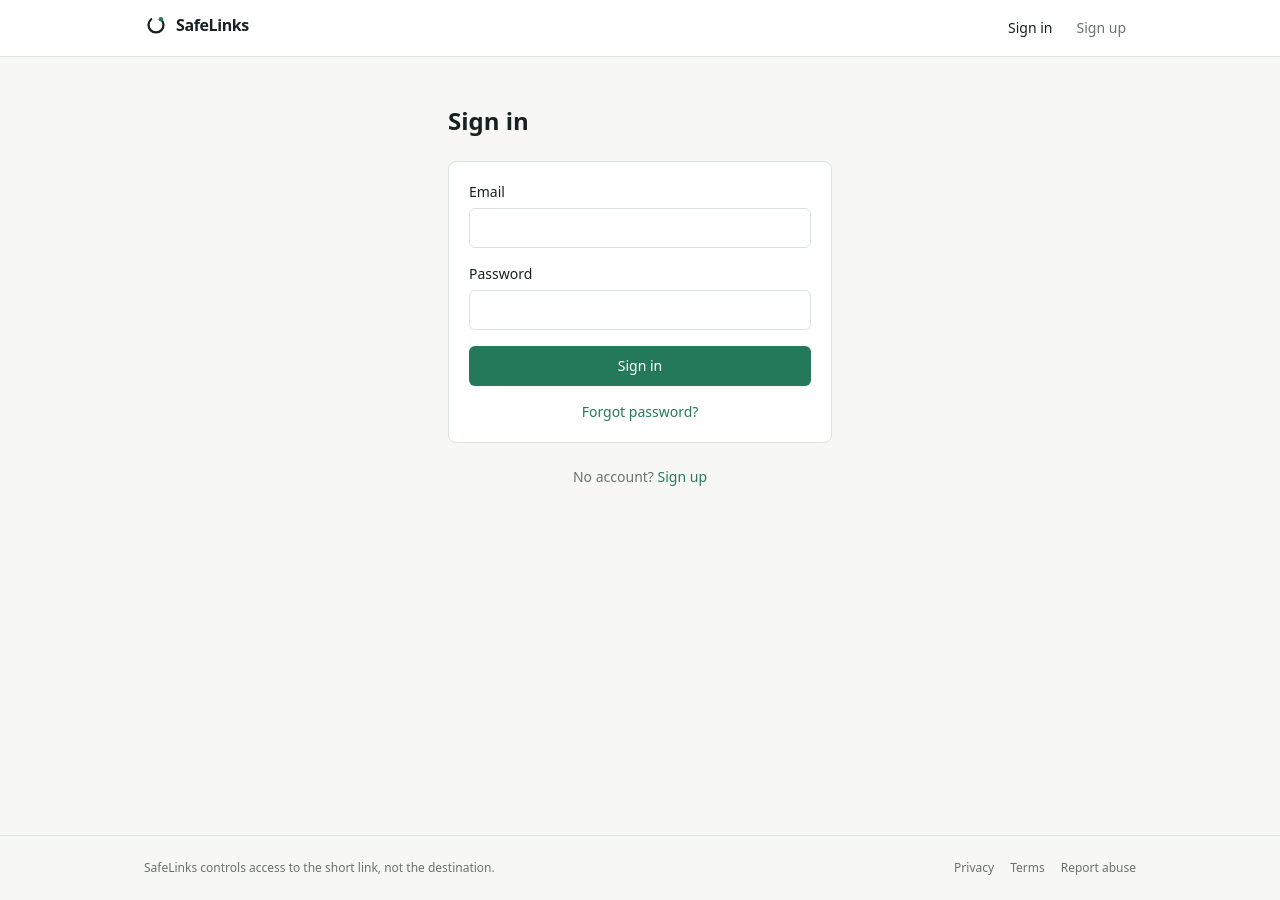
routing and pages › shows sign-in errors
Step 1. Type "a@example.com" into the field labelled "Email" → (640, 228), box [469,208,811,248]
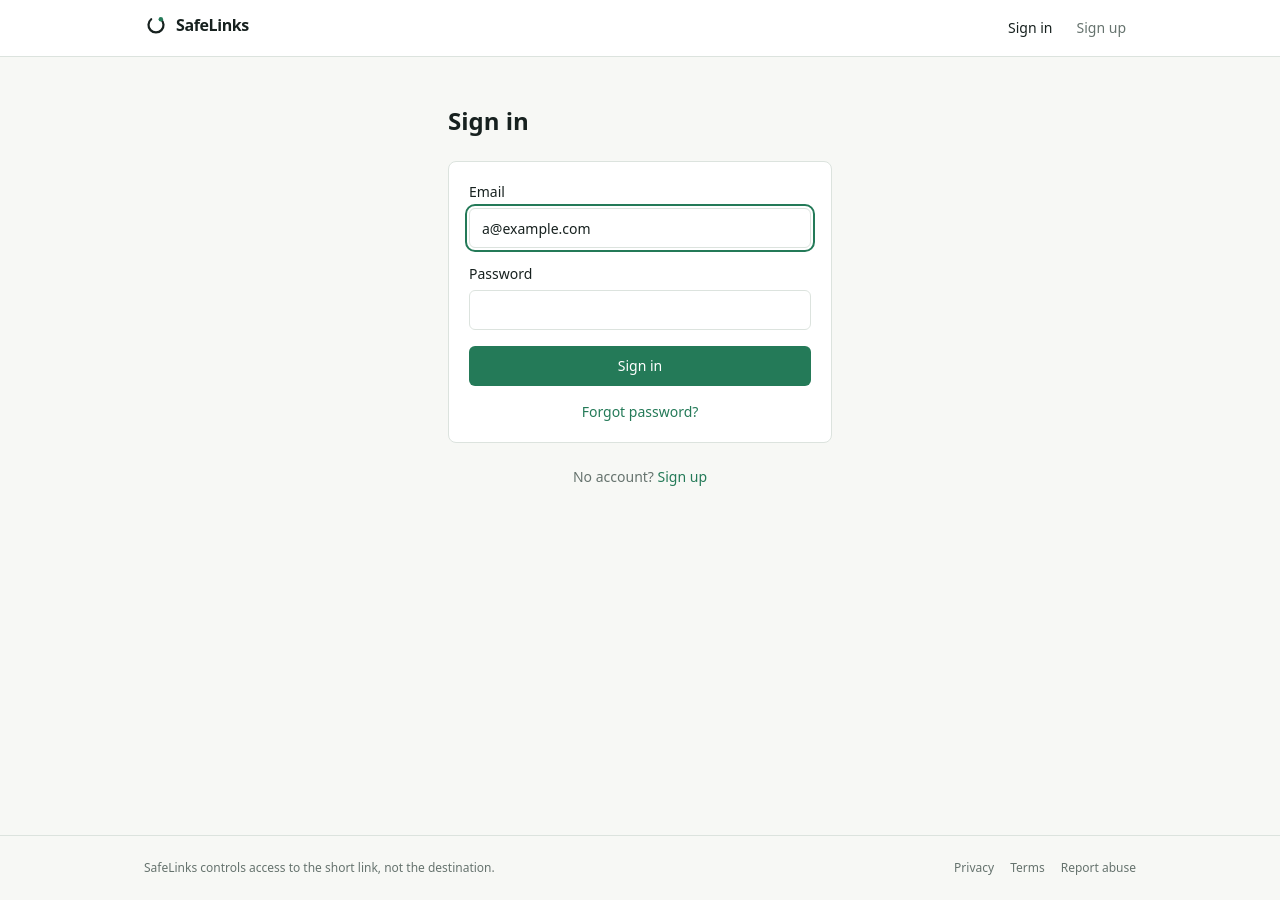
Step 2. Type "wrongpass" into the password field labelled "Password" → (640, 310), box [469,290,811,330]
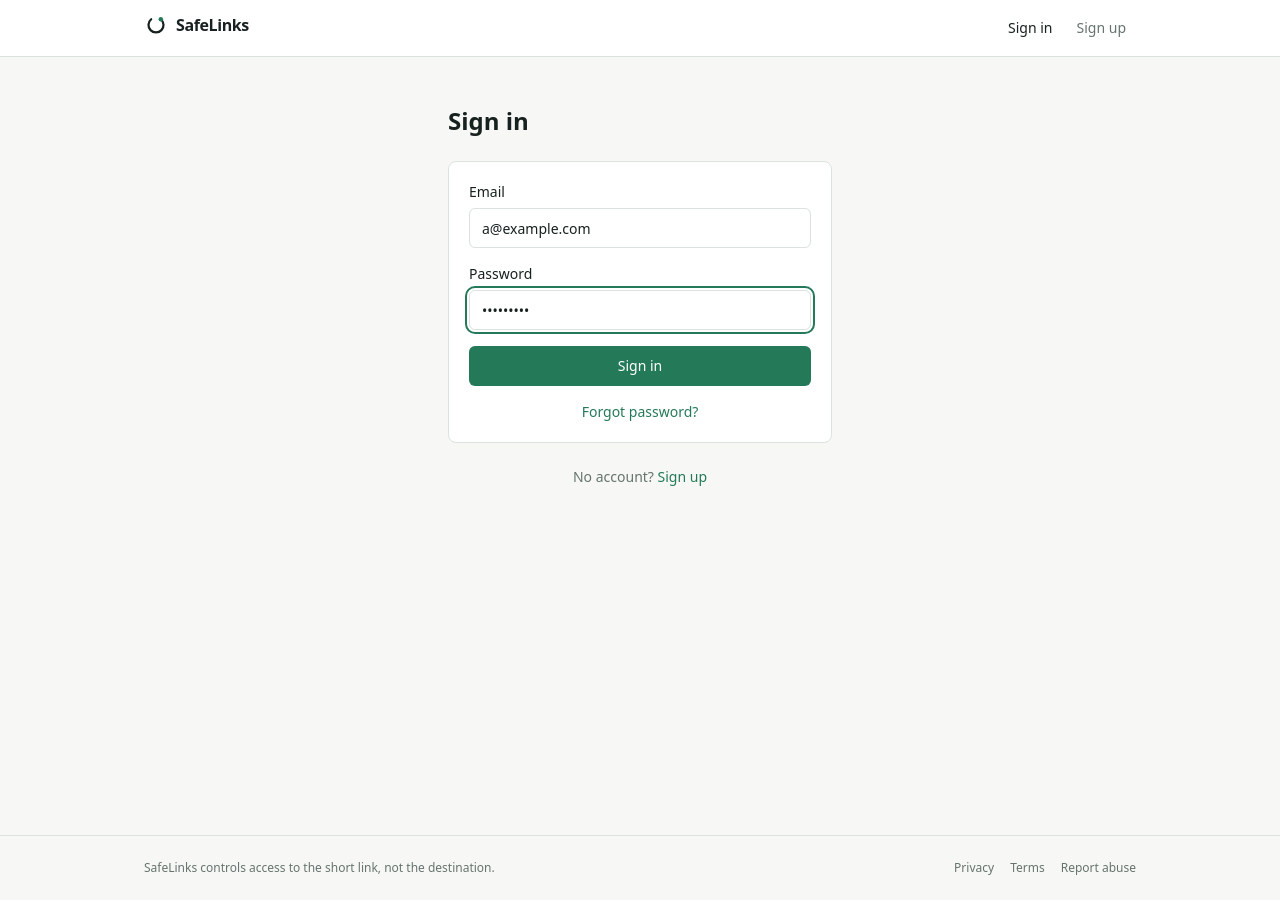
Step 3. Click the button "Sign in" → (640, 366), box [469,346,811,386]
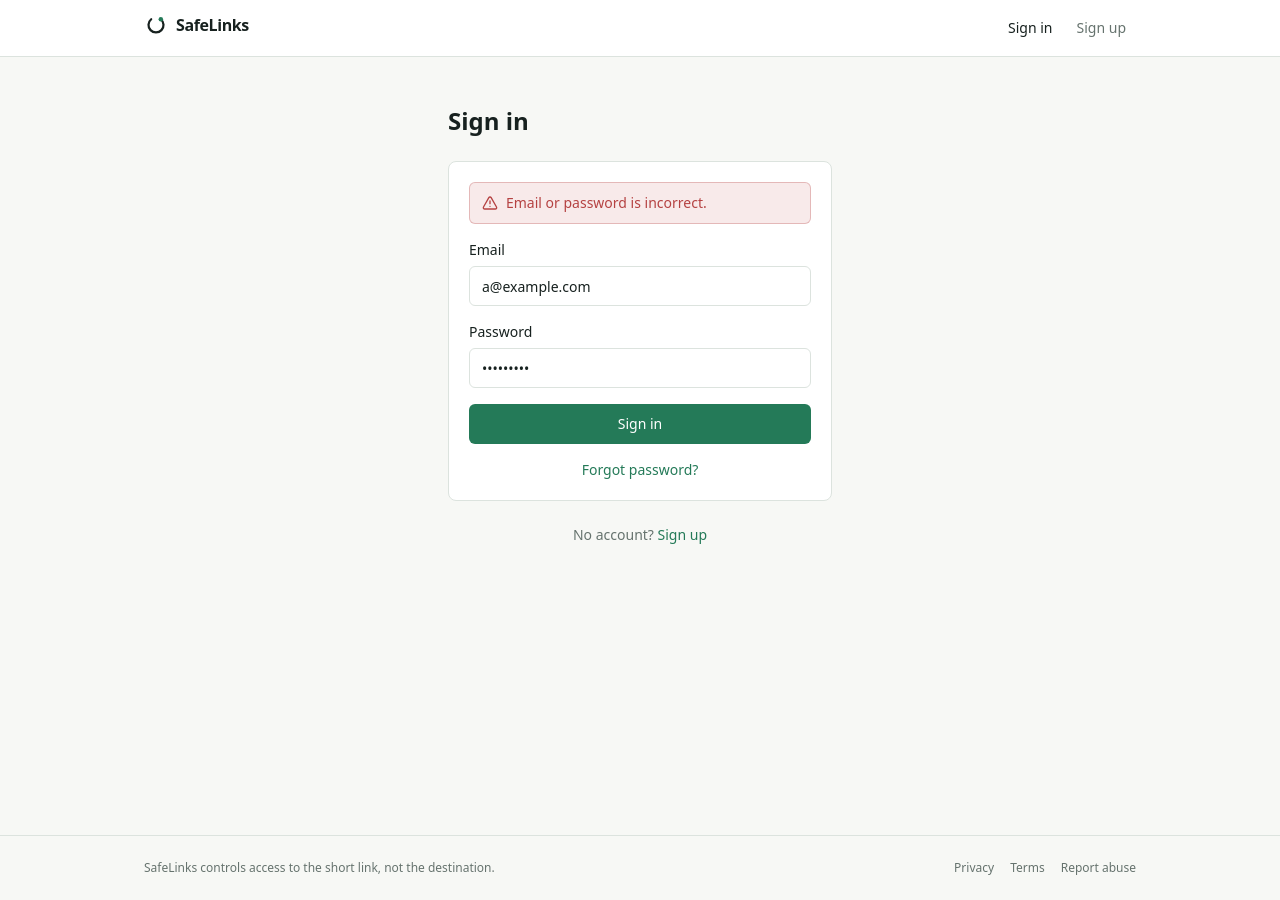
Expected: the message reads "Email or password is incorrect.", [506,193,707,212]
